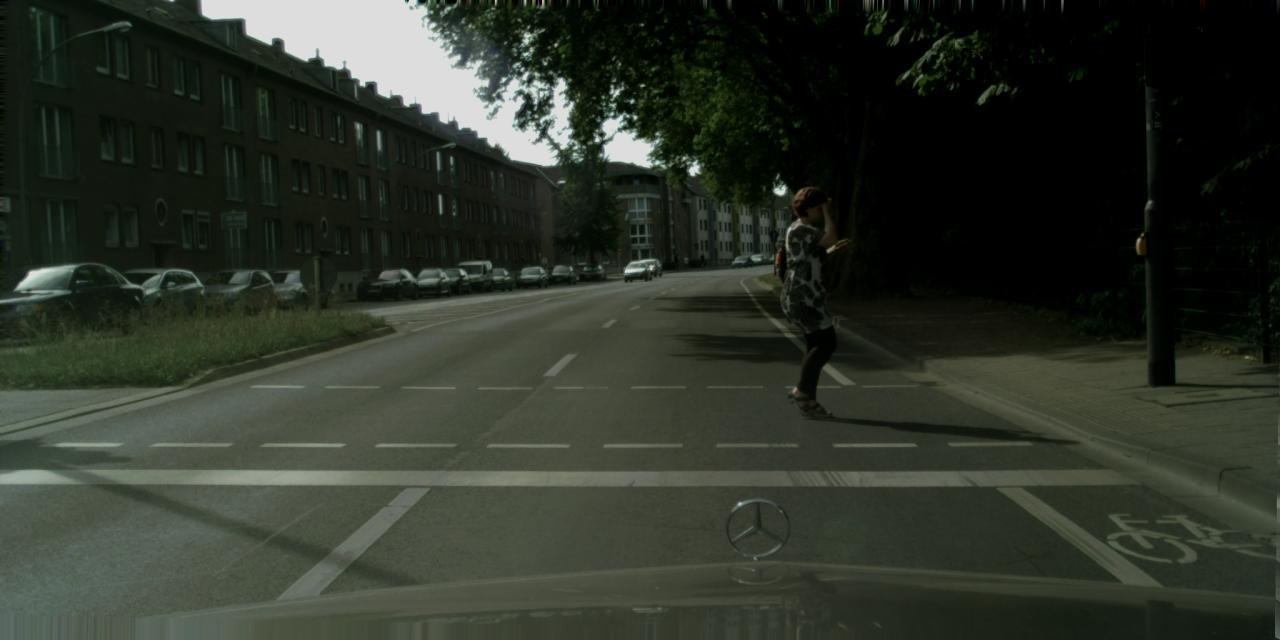ped: (763, 186, 856, 412), (673, 253, 679, 269), (699, 252, 705, 267), (683, 255, 688, 268)
